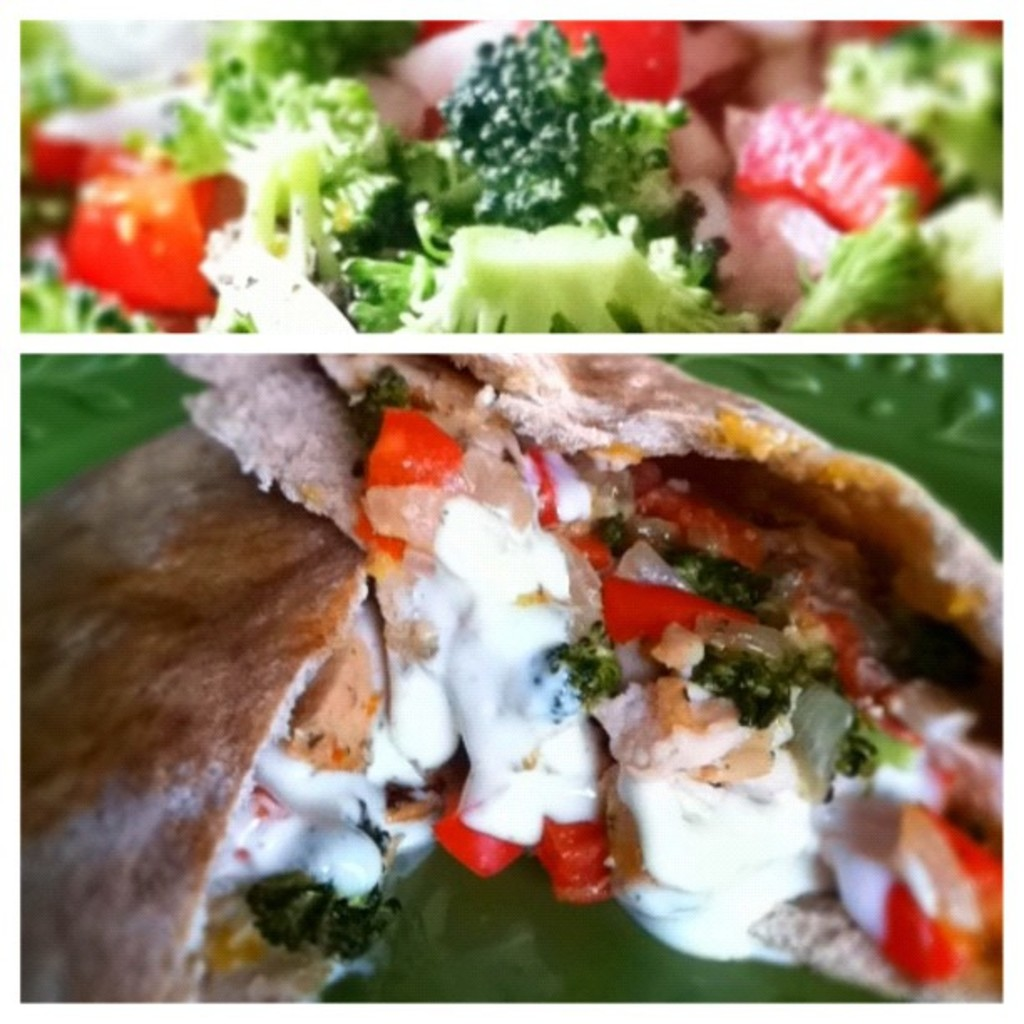taco: (94, 318, 1024, 991)
